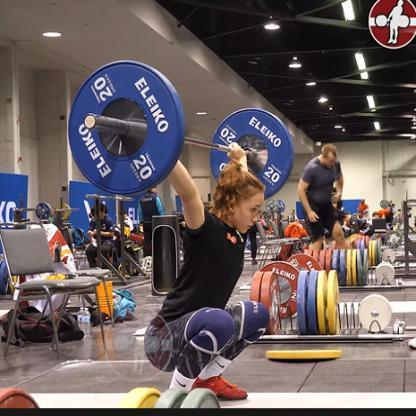barbell: (70, 62, 294, 198)
